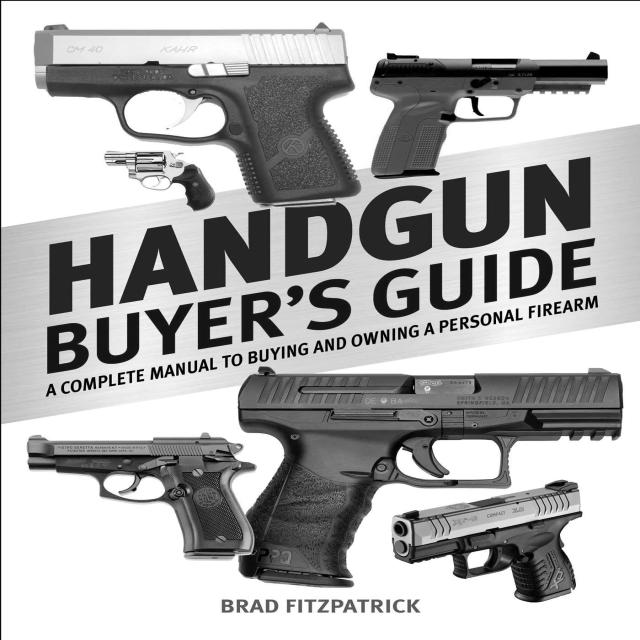Hand-Gun: (232, 365, 616, 580), (25, 13, 394, 192), (363, 44, 621, 180), (22, 436, 266, 564), (392, 492, 605, 588), (86, 135, 239, 211)
